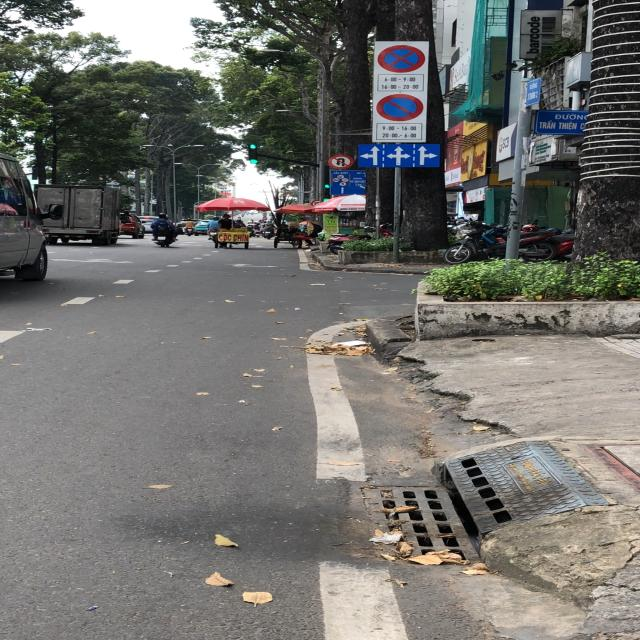Bien bao cam do xe: (372, 90, 426, 122)
Bien bao cam dung xe va do xe: (373, 41, 428, 75)
Bien bao cam quay dau xe: (321, 152, 357, 170)
